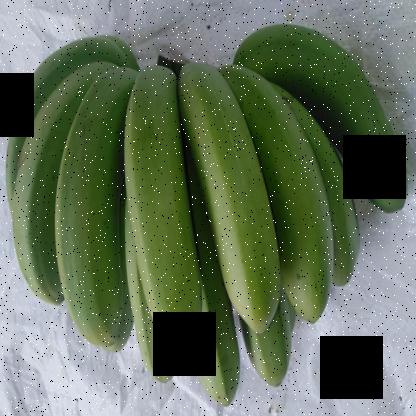freshunripe: (49, 64, 141, 367), (250, 64, 343, 348), (125, 38, 209, 344), (193, 50, 282, 331), (301, 6, 413, 212), (10, 89, 83, 315), (312, 133, 376, 299), (232, 258, 296, 405), (187, 270, 248, 405), (130, 248, 186, 387)
